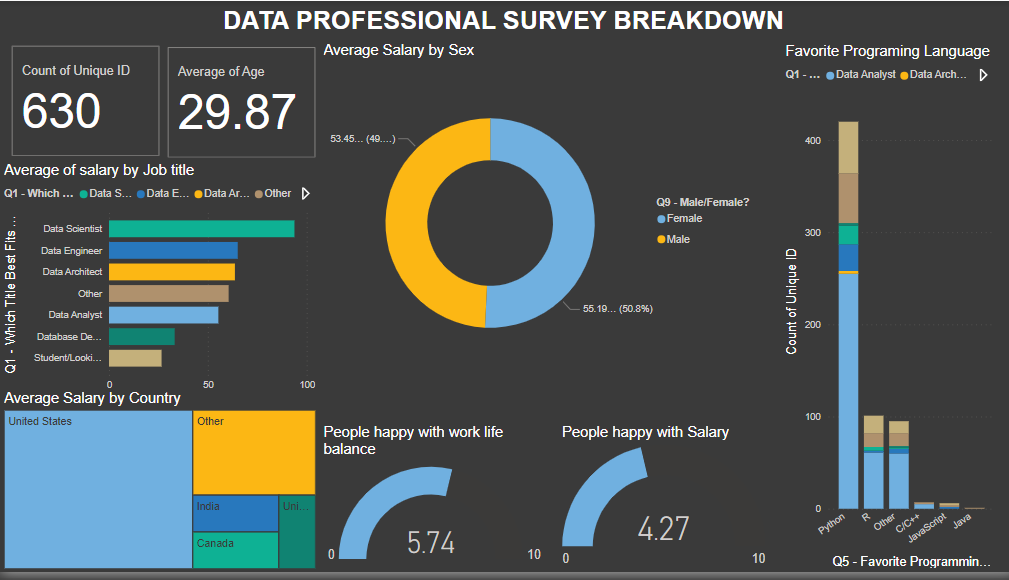

This screenshot's page, from the dashboard's own definition file:
{"tool":"powerbi","page":{"name":"Page 1","canvas":[1280,720],"ordinal":0},"visuals":[{"type":"textbox","box":[9.4,0,1249.8,51],"z":0},{"type":"cardVisual","fields":{"Data":["CountNonNull(Data Professional Survey.Unique ID)"]},"box":[9.4,51,196.3,149.1],"z":1000},{"type":"cardVisual","fields":{"Data":["Avg(Data Professional Survey.Q10 - Current Age)"]},"box":[205.8,52.9,196.3,149.1],"z":2000},{"type":"barChart","title":"Average of salary by Job title","fields":{"Category":["Data Professional Survey.Q1 - Which Title Best Fits your Current Role?.1"],"Y":["Avg(Data Professional Survey.Average Salary)"],"Series":["Data Professional Survey.Q1 - Which Title Best Fits your Current Role?.1"]},"box":[0,202,402.1,311.5],"z":3000},{"type":"columnChart","title":"Favorite Programing Language","fields":{"Category":["Data Professional Survey.Q5 - Favorite Programming Language.1"],"Y":["CountNonNull(Data Professional Survey.Unique ID)"],"Series":["Data Professional Survey.Q1 - Which Title Best Fits your Current Role?.1"]},"box":[985.5,52.9,273.7,666.4],"z":4000},{"type":"treemap","title":"Average Salary by Country","fields":{"Values":["Sum(Data Professional Survey.Average Salary)"],"Group":["Data Professional Survey.Q11 - Which Country do you live in?.1"]},"box":[0,489,402.1,230.3],"z":5000},{"type":"gauge","title":"People happy with work life balance","fields":{"Y":["Avg(Data Professional Survey.Q6 - How Happy are you in your Current Position with the following? (Work/Life Balance))"],"MinValue":["Min(Data Professional Survey.Q6 - How Happy are you in your Current Position with the following? (Work/Life Balance))1"],"MaxValue":["Max(Data Professional Survey.Q6 - How Happy are you in your Current Position with the following? (Work/Life Balance))2"]},"box":[402.1,532.4,288.8,186.9],"z":6000},{"type":"gauge","title":"People happy with Salary","fields":{"Y":["Avg(Data Professional Survey.Q6 - How Happy are you in your Current Position with the following? (Salary))"],"MinValue":["Min(Data Professional Survey.Q6 - How Happy are you in your Current Position with the following? (Salary))"],"MaxValue":["Max(Data Professional Survey.Q6 - How Happy are you in your Current Position with the following? (Salary))"]},"box":[702.3,532.4,266.2,186.9],"z":7000},{"type":"donutChart","title":" Average Salary by Sex","fields":{"Category":["Data Professional Survey.Q9 - Male/Female?"],"Y":["Avg(Data Professional Survey.Average Salary)"]},"box":[402.1,51,566.4,436.1],"z":8000}]}

Visuals, with their boxes in screenshot pixels (x1, y1, x2, y2), scaled from the page's 1280x720 canvas onto the 1009x580 screenshot:
textbox: 7/0/993/41
cardVisual - CountNonNull(Data Professional Survey.Unique ID): 7/41/162/161
cardVisual - Avg(Data Professional Survey.Q10 - Current Age): 162/43/317/163
"Average of salary by Job title" barChart: 0/163/317/414
"Favorite Programing Language" columnChart: 777/43/993/579
"Average Salary by Country" treemap: 0/394/317/579
"People happy with work life balance" gauge: 317/429/545/579
"People happy with Salary" gauge: 554/429/763/579
" Average Salary by Sex" donutChart: 317/41/763/392
